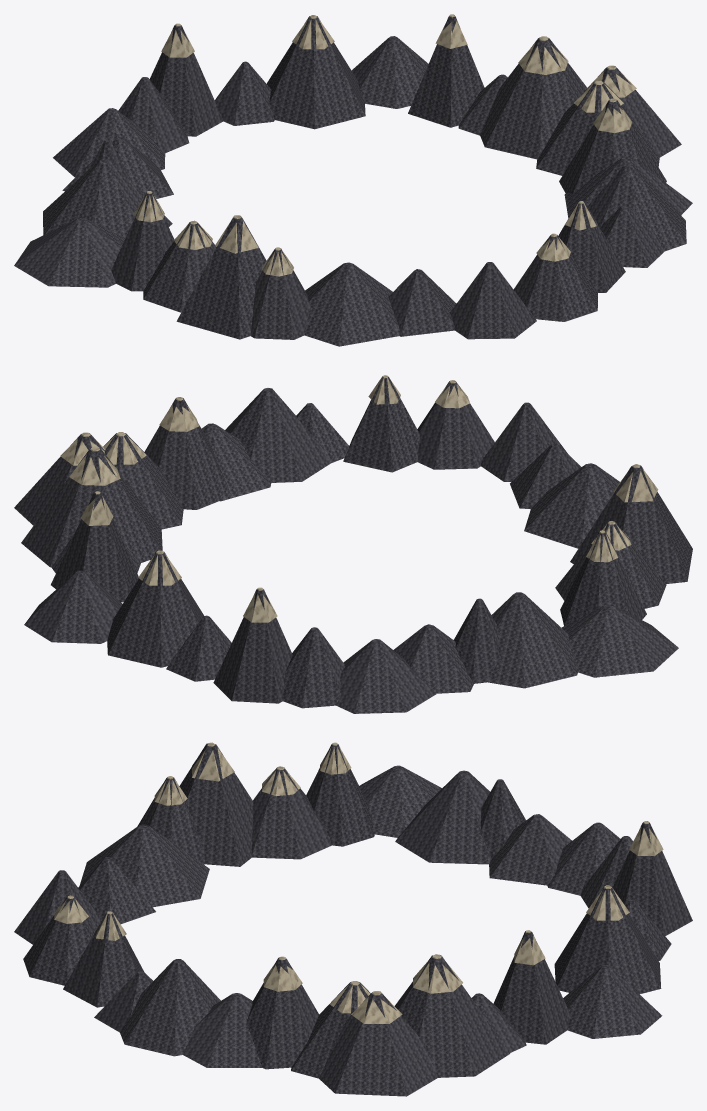
The model's file is montes.obj.
The picture shows the model from 3 angles, top to bottom: view 1: azimuth 30°, elevation 25°; view 2: azimuth 150°, elevation 25°; view 3: azimuth 270°, elevation 25°; orthographic projection. The views are drawn at different scales.
Visible parts, largest first — view 1: montes; view 2: montes; view 3: montes.
Boxes of the visible parts, bbox=[...] form: montes: bbox=[14, 14, 692, 346]; montes: bbox=[14, 375, 692, 713]; montes: bbox=[14, 742, 692, 1096].
Size of the model in its own units: 130 by 18.75 by 118.
2 materials, 2 textured.
